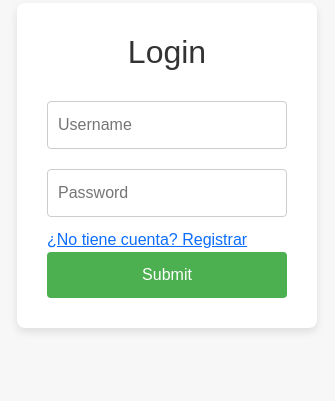
Test: Login (Karma + Jasmine) › muestra mensaje genérico cuando no hay usuarios en storage
Type "user123" into the field with placeholder "Username" at (167, 125), box [47,101,287,149]
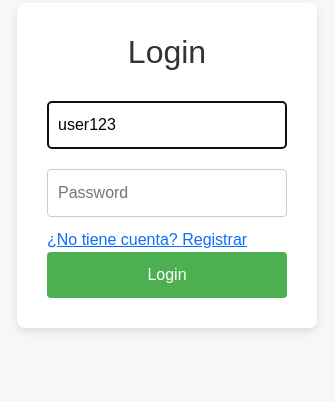
Type "Clave12" into the password field with placeholder "Password" at (167, 193), box [47,169,287,217]
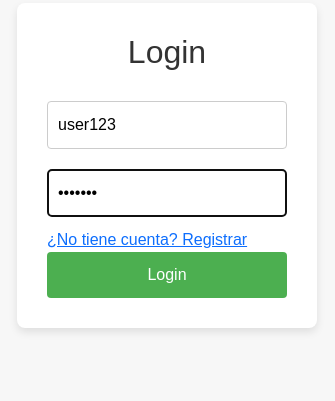
Click the button "Login" at (167, 275), box [47,252,287,298]
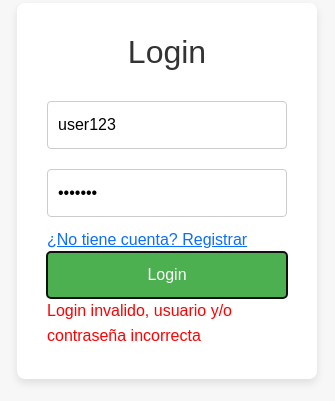
Now the text "Login invalido, usuario y/o contraseña incorrecta" is shown, box [47,302,232,344]
